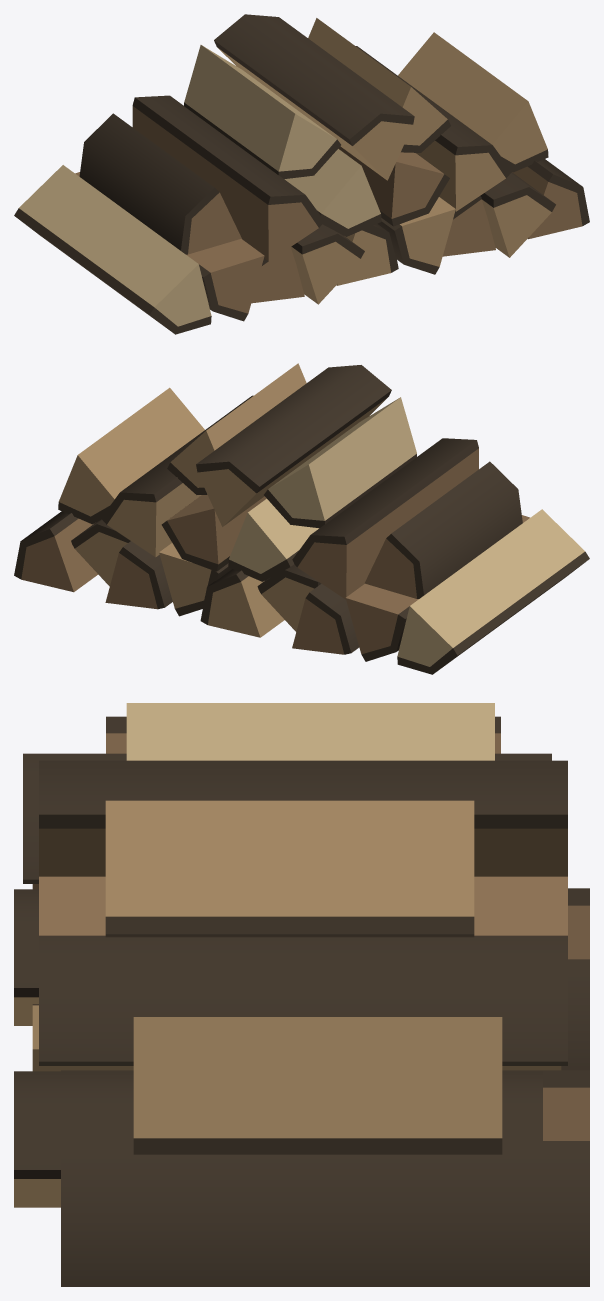
File: SM_Prop_Wood_Pile_02.fbx
3 renders of one model, top to bottom at view 1: azimuth 30°, elevation 25°; view 2: azimuth 150°, elevation 25°; view 3: azimuth 270°, elevation 25°, orthographic. The views are drawn at different scales.
Visible parts, largest first — view 1: SM_Prop_Wood_Pile_02; view 2: SM_Prop_Wood_Pile_02; view 3: SM_Prop_Wood_Pile_02.
Part boxes in pixels (x1=…): SM_Prop_Wood_Pile_02: x1=14, y1=14, x2=589, y2=334; SM_Prop_Wood_Pile_02: x1=14, y1=363, x2=589, y2=674; SM_Prop_Wood_Pile_02: x1=14, y1=703, x2=589, y2=1286.
Size of the model in its own units: 231 by 86.61 by 132.
